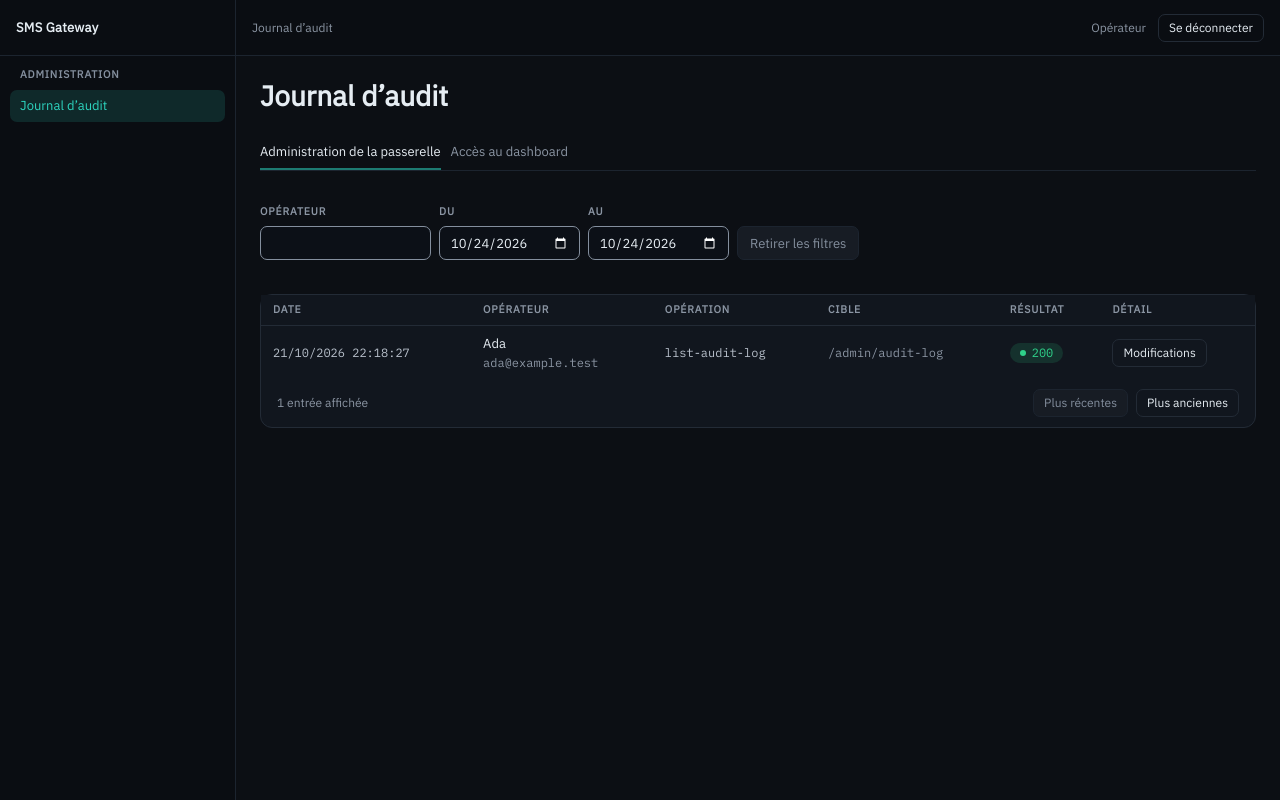
Scenario: Previous walks back the pages one at a time, and shows only when there is one behind
Expected: the text "list-audit-log" is shown, [665,345,766,360]
Click the button "Plus anciennes" at x=1188, y=403, box [1136,389,1239,417]
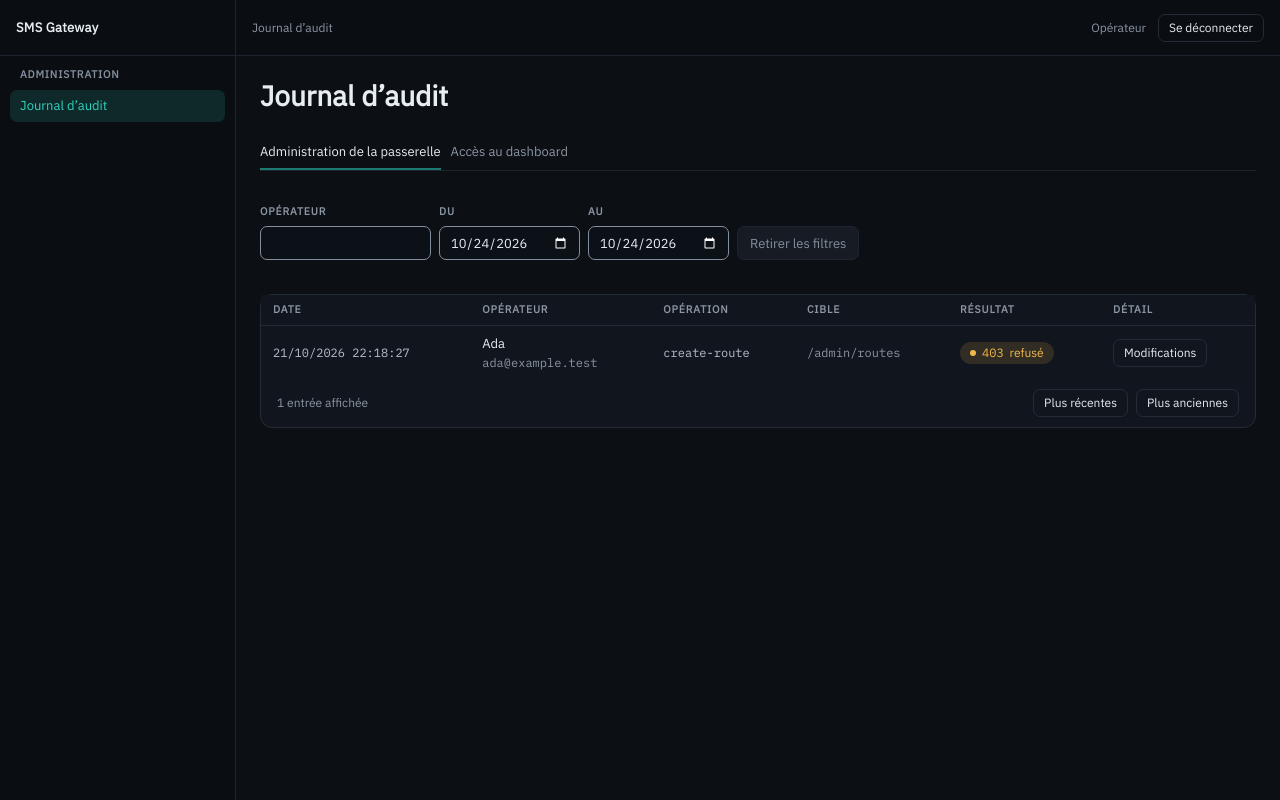
Expected: the text "create-route" is shown, [663,345,750,360]
Click the button "Plus anciennes" at x=1188, y=403, box [1136,389,1239,417]
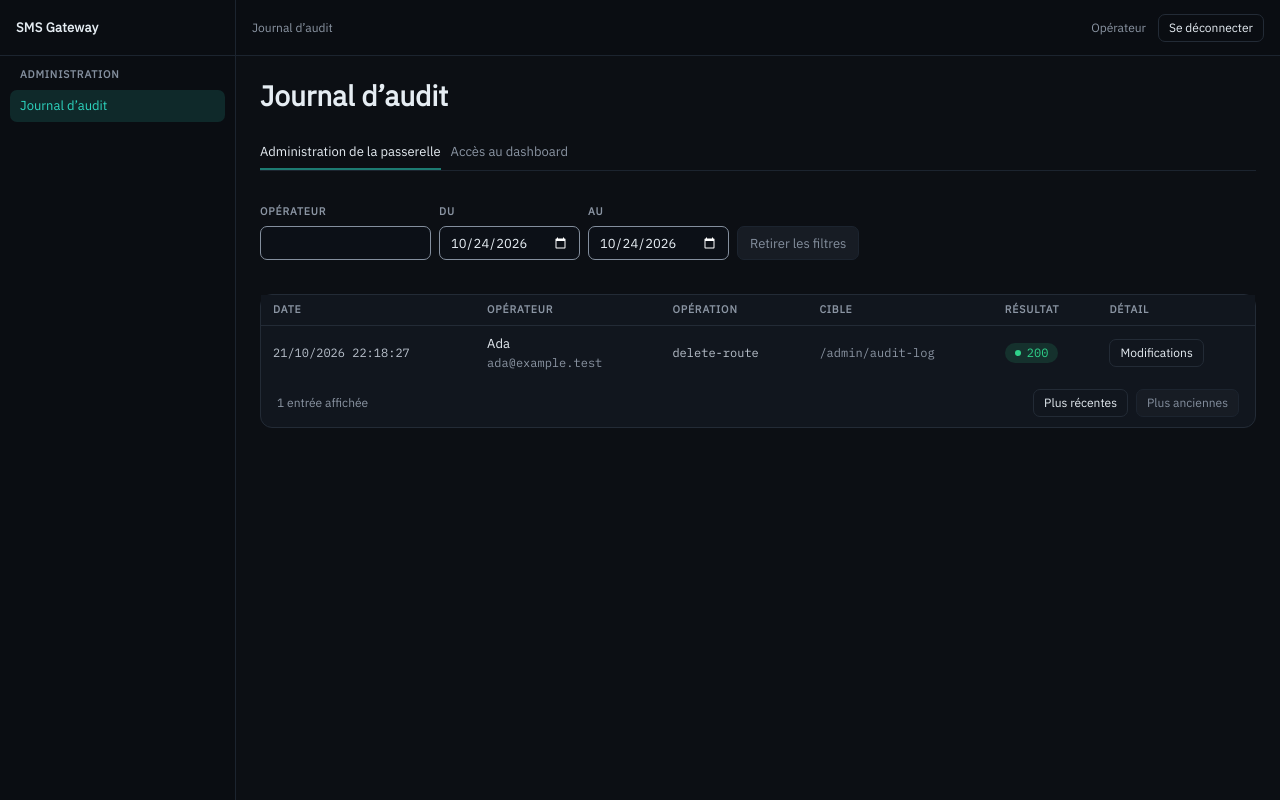
Expected: the text "delete-route" is shown, [672,345,759,360]
Click the button "Plus récentes" at x=1081, y=403, box [1033,389,1128,417]
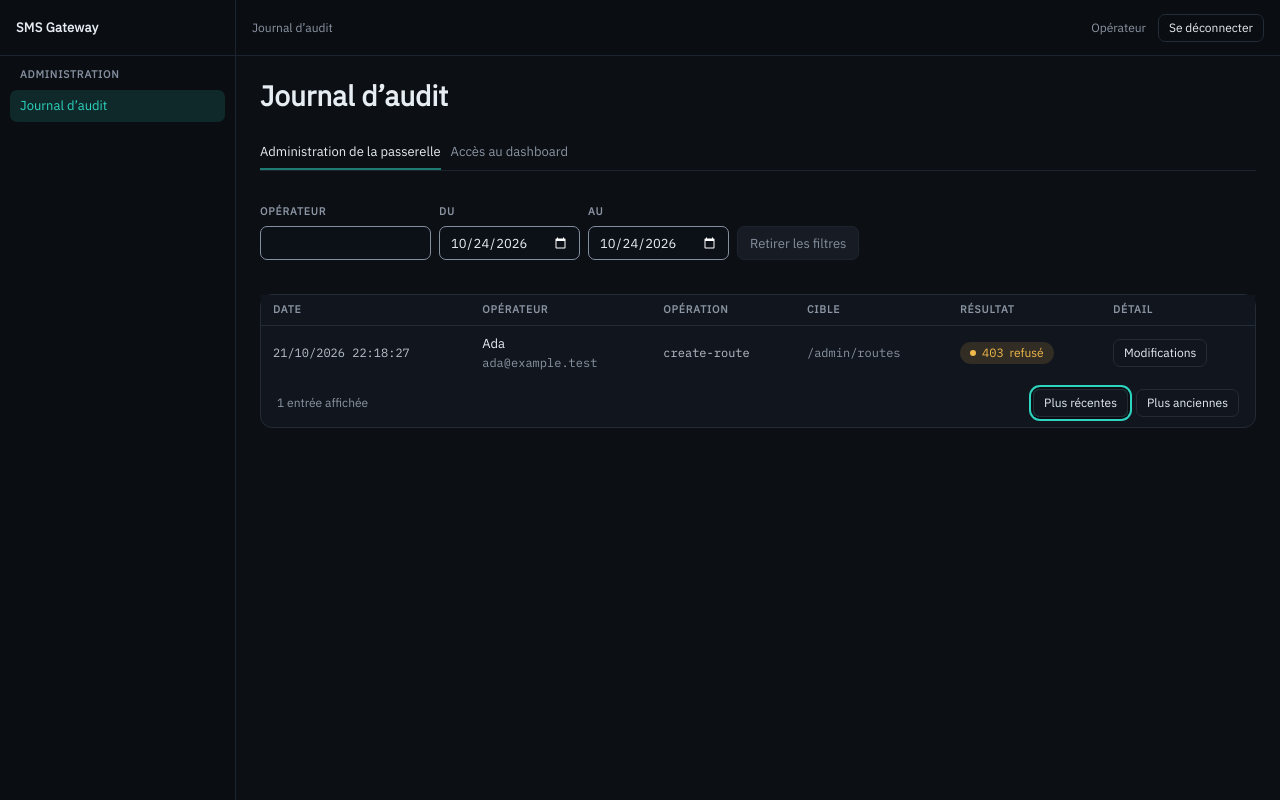
Expected: the text "create-route" is shown, [663,345,750,360]
Click the button "Plus récentes" at x=1081, y=403, box [1033,389,1128,417]
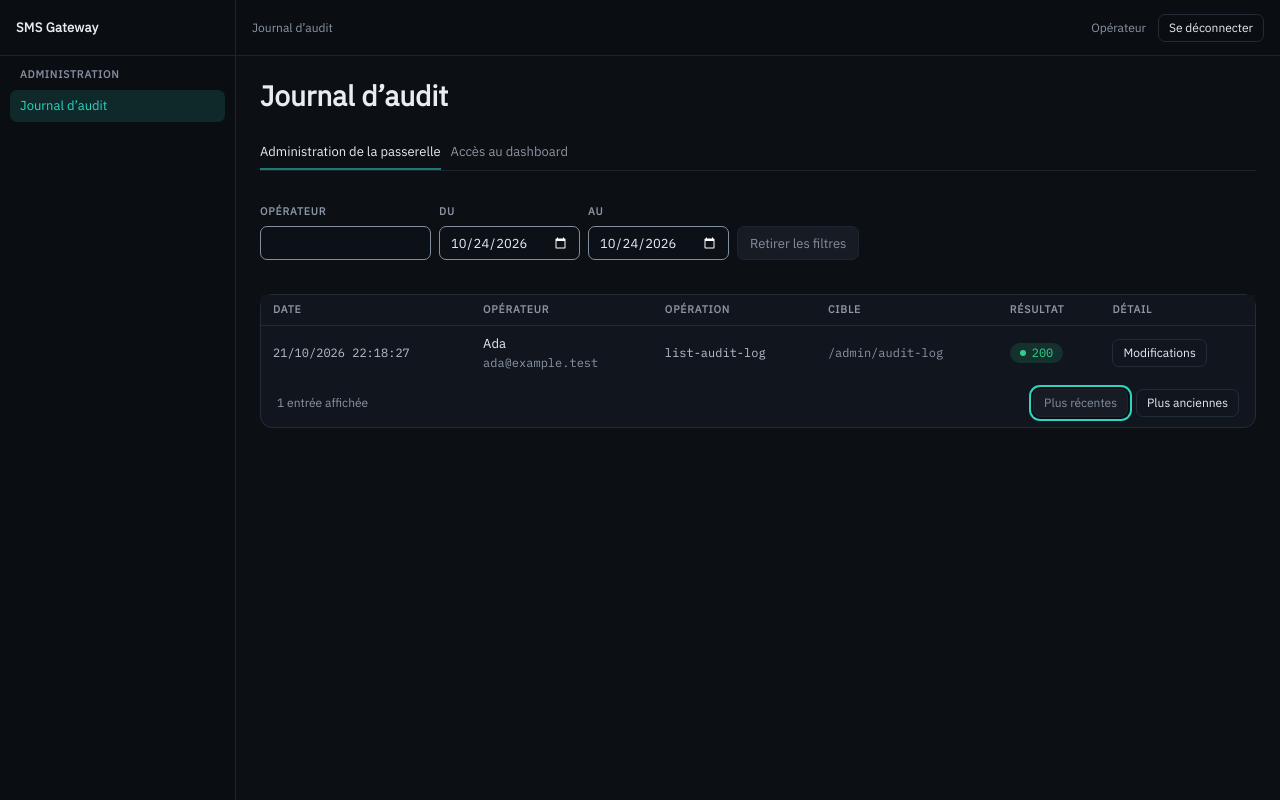
Expected: the text "list-audit-log" is shown, [665,345,766,360]
Click the button "Plus anciennes" at x=1188, y=403, box [1136,389,1239,417]
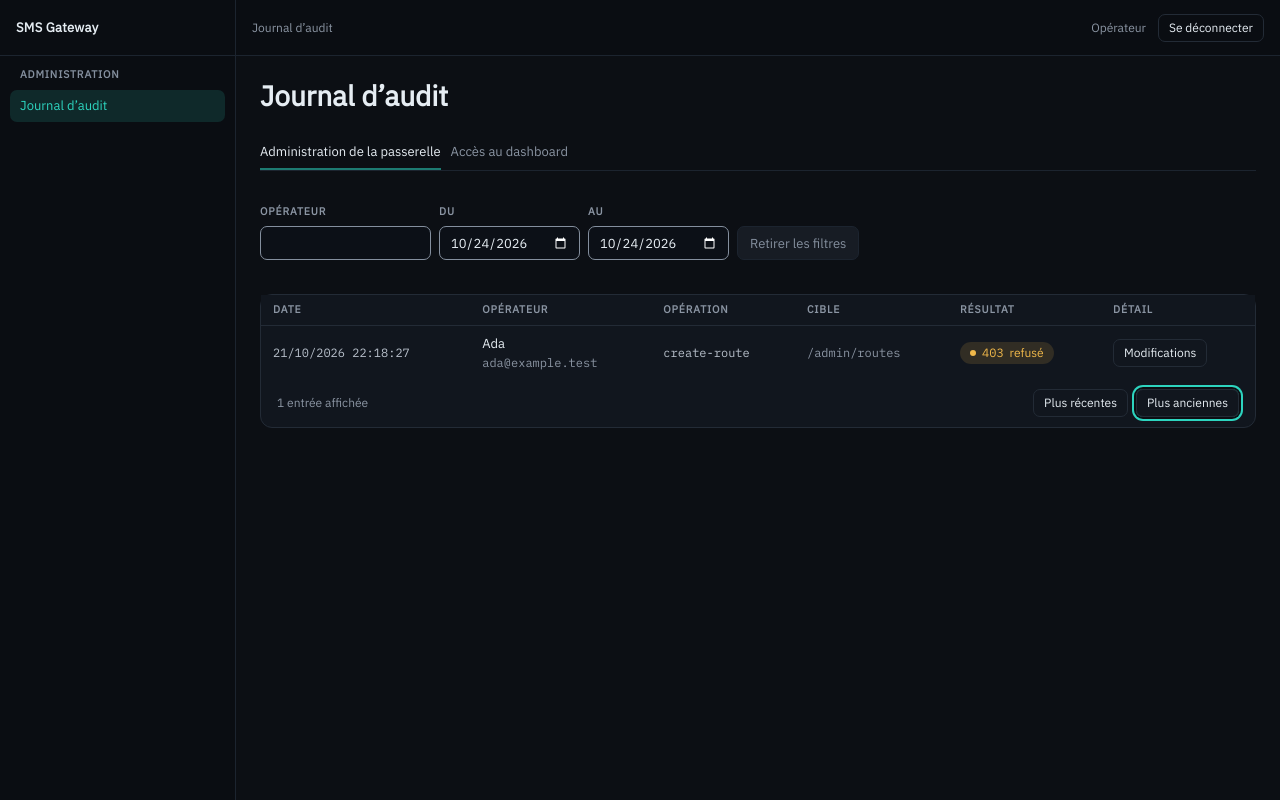
Expected: the text "create-route" is shown, [663,345,750,360]
Type "2026-10-20" into the date field labelled "Du" at x=510, y=243, box [439,226,580,260]
Press Tab
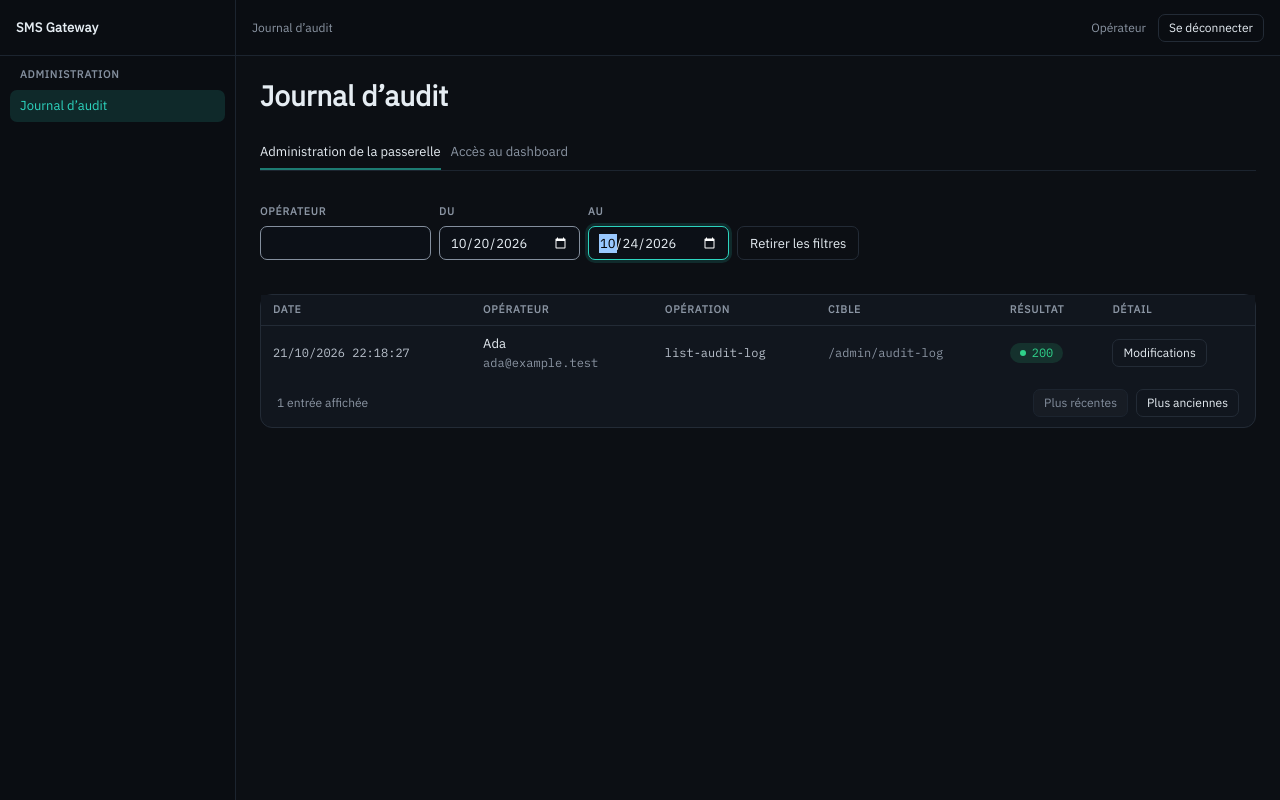
Expected: the text "list-audit-log" is shown, [665,345,766,360]
